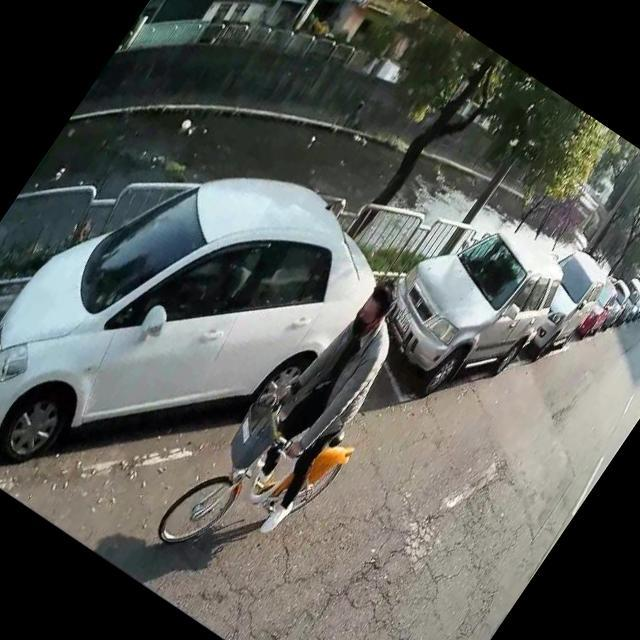person: (200, 256, 434, 546)
